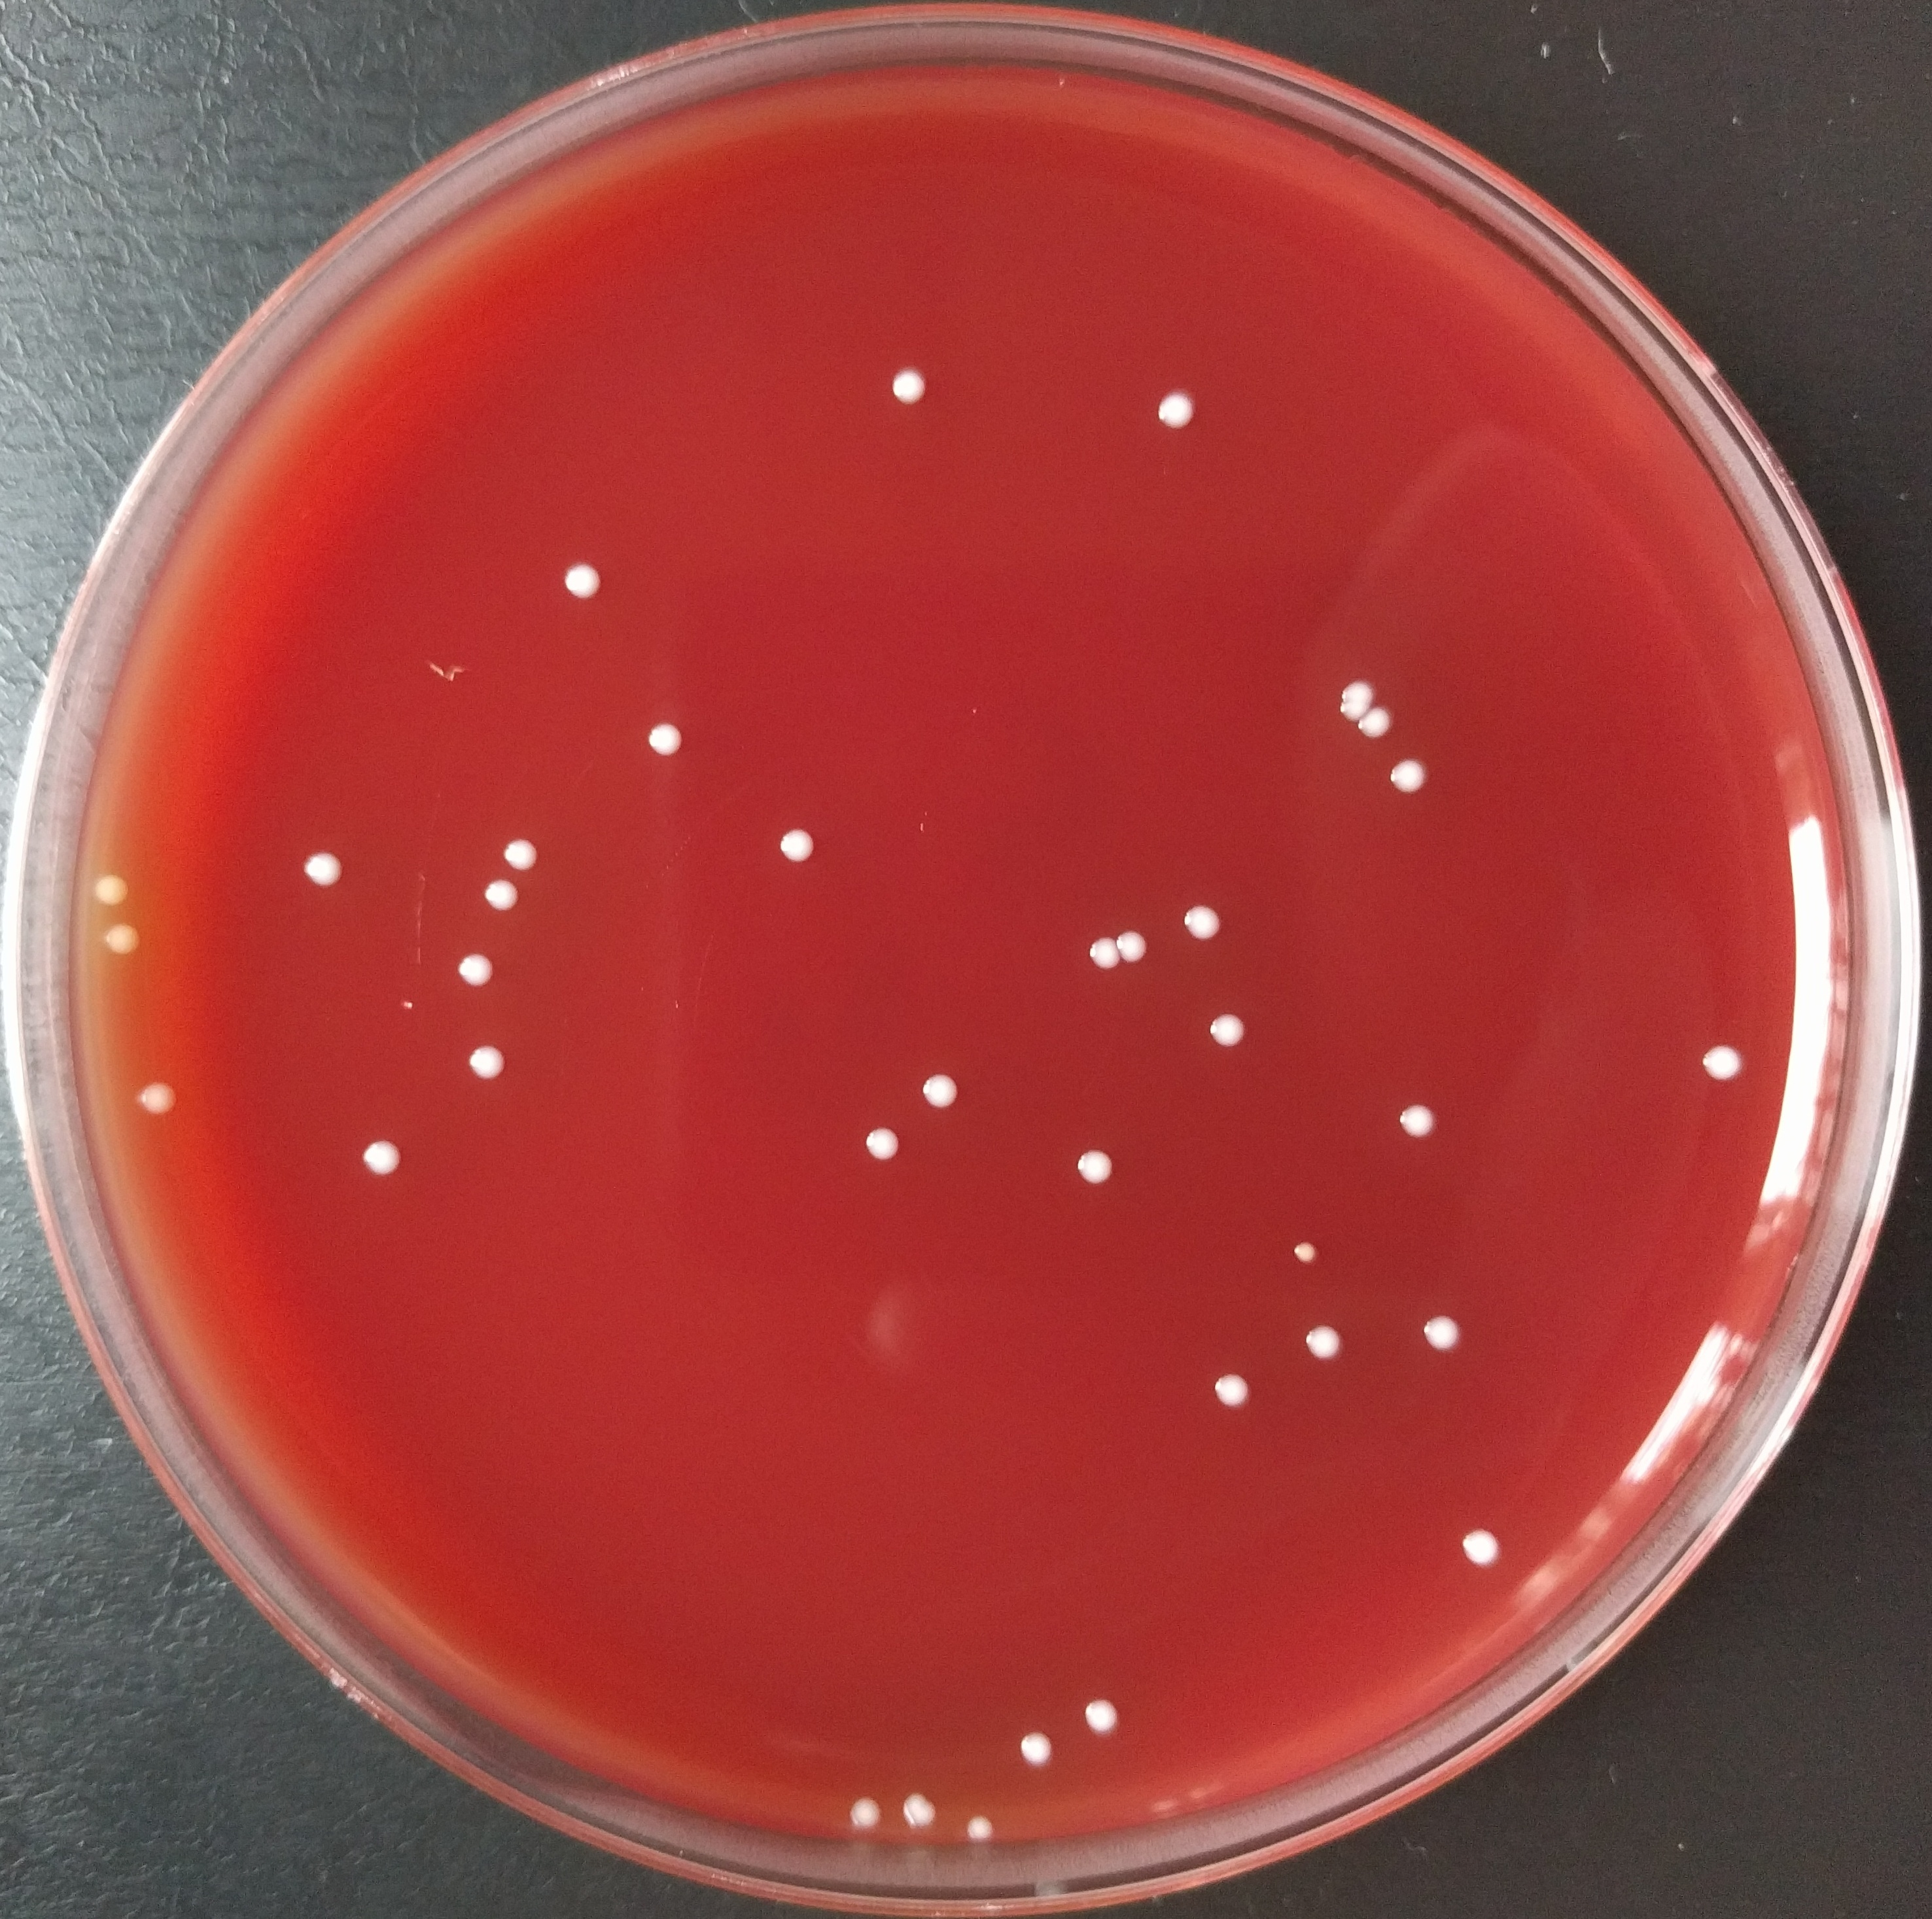sp24: (1413, 1306, 1485, 1371), (1387, 1093, 1456, 1155), (1166, 896, 1243, 951), (1007, 1719, 1072, 1780), (1144, 380, 1202, 448), (1689, 1037, 1758, 1095), (1192, 1002, 1262, 1056), (1206, 1358, 1267, 1418), (1276, 1228, 1343, 1283), (1454, 1517, 1512, 1573), (847, 1116, 909, 1169), (1067, 1144, 1130, 1195), (90, 912, 148, 967), (348, 1135, 411, 1184), (1290, 1318, 1355, 1364), (881, 360, 933, 416), (1074, 1691, 1130, 1740), (765, 829, 830, 870), (127, 1075, 181, 1123), (556, 557, 608, 605), (90, 872, 144, 917), (1382, 756, 1436, 800), (912, 1072, 970, 1112), (891, 1784, 942, 1829), (842, 1784, 886, 1836), (1355, 699, 1403, 747), (461, 1039, 510, 1084), (454, 945, 503, 991), (633, 724, 689, 763), (302, 849, 353, 891), (496, 835, 541, 875), (1109, 923, 1148, 970), (478, 877, 522, 917), (1078, 928, 1113, 977), (1333, 671, 1376, 703), (1326, 698, 1380, 722), (956, 1814, 999, 1842)
